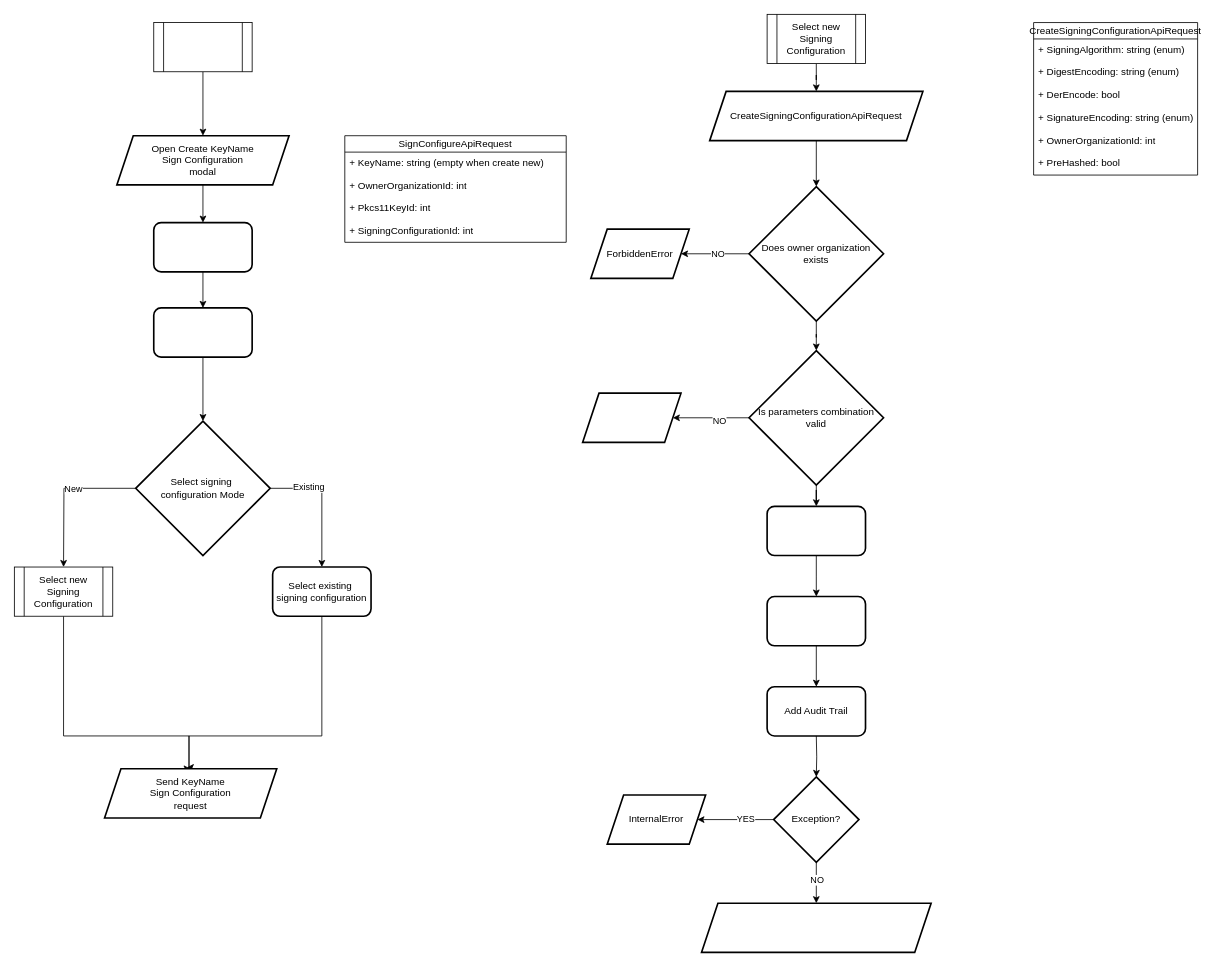
This 1215x968 diagram has some shape labels left out. Here are the shapes that lost their labels. From the top down, the box of each, then its label:
(153, 22, 252, 72): Create KeyName Sign Configuration
(153, 221, 253, 272): Select Organization
(153, 307, 253, 358): Select Pkcs11 Key
(581, 392, 681, 443): ValidationError
(766, 505, 866, 556): Create Signing configuration
(766, 595, 866, 646): Save Signing configuration
(700, 902, 932, 953): CreateSigningConfigurationApiResponse
